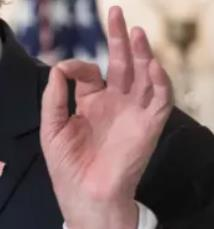left: (38, 4, 172, 203)
